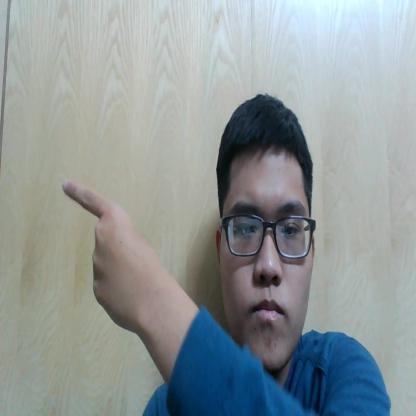right: (46, 176, 172, 354)
